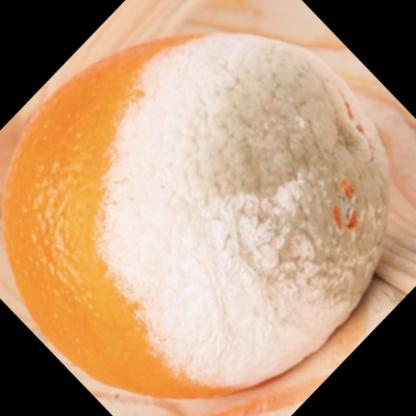rotten: (4, 34, 383, 396)
